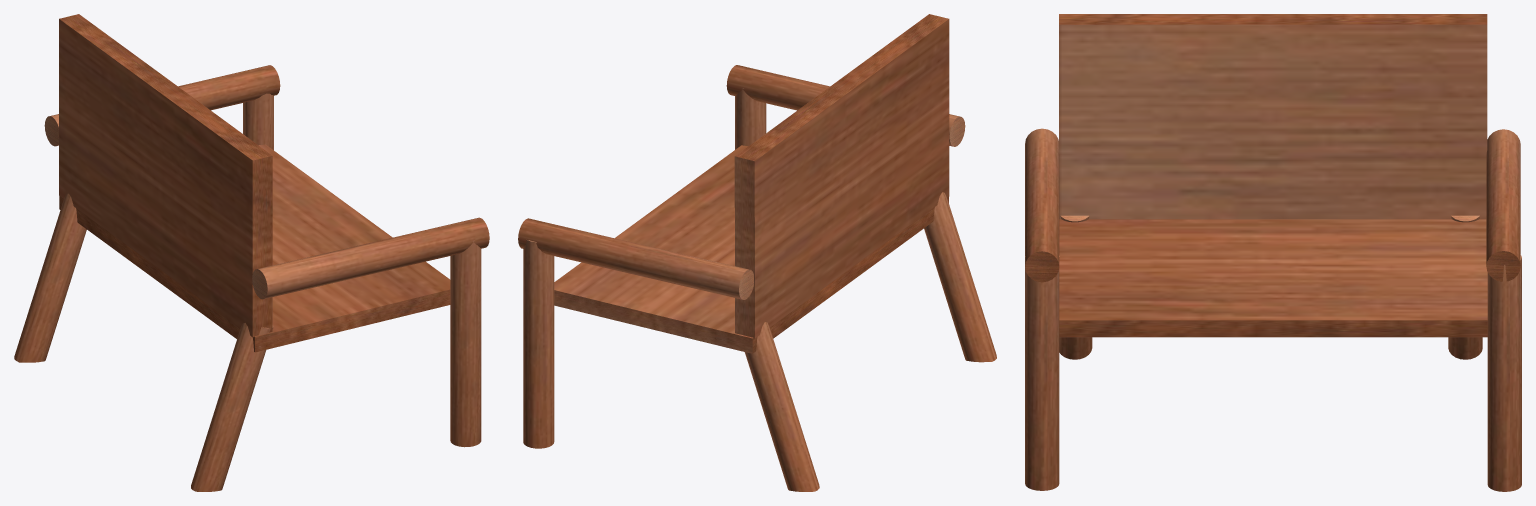
Rendered from Silla.obj.
3 renders of one model, left to right at view 1: azimuth 30°, elevation 25°; view 2: azimuth 150°, elevation 25°; view 3: azimuth 270°, elevation 25°, orthographic. The views are drawn at different scales.
Visible parts, largest first — view 1: Silla:group4_pasted__group_pasted__pasted__pCylinder1; view 2: Silla:group4_pasted__group_pasted__pasted__pCylinder1; view 3: Silla:group4_pasted__group_pasted__pasted__pCylinder1.
Part boxes in pixels (x1=…): Silla:group4_pasted__group_pasted__pasted__pCylinder1: x1=14, y1=14, x2=489, y2=491; Silla:group4_pasted__group_pasted__pasted__pCylinder1: x1=518, y1=14, x2=996, y2=491; Silla:group4_pasted__group_pasted__pasted__pCylinder1: x1=1025, y1=14, x2=1521, y2=491.
Size of the model in its own units: 4.98 by 5.63 by 7.06.
1 material, 1 textured.
